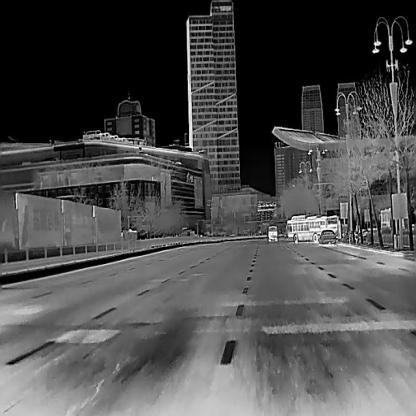car: (284, 212, 341, 242), (378, 206, 409, 231), (317, 229, 337, 243), (267, 225, 278, 242)
